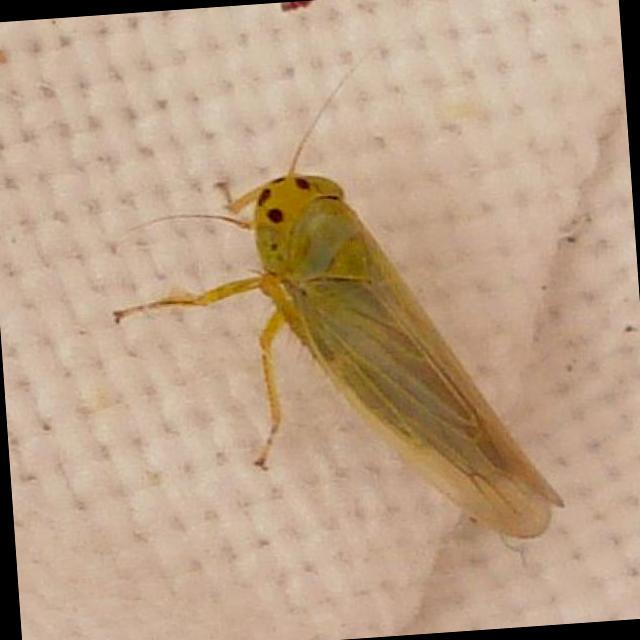green leaf hopper: (114, 170, 561, 537)
